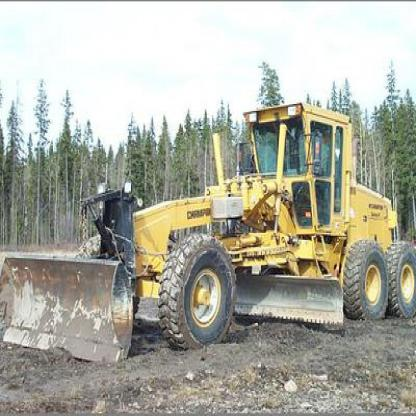bull_dozer/loader/grader: (12, 101, 415, 348)
